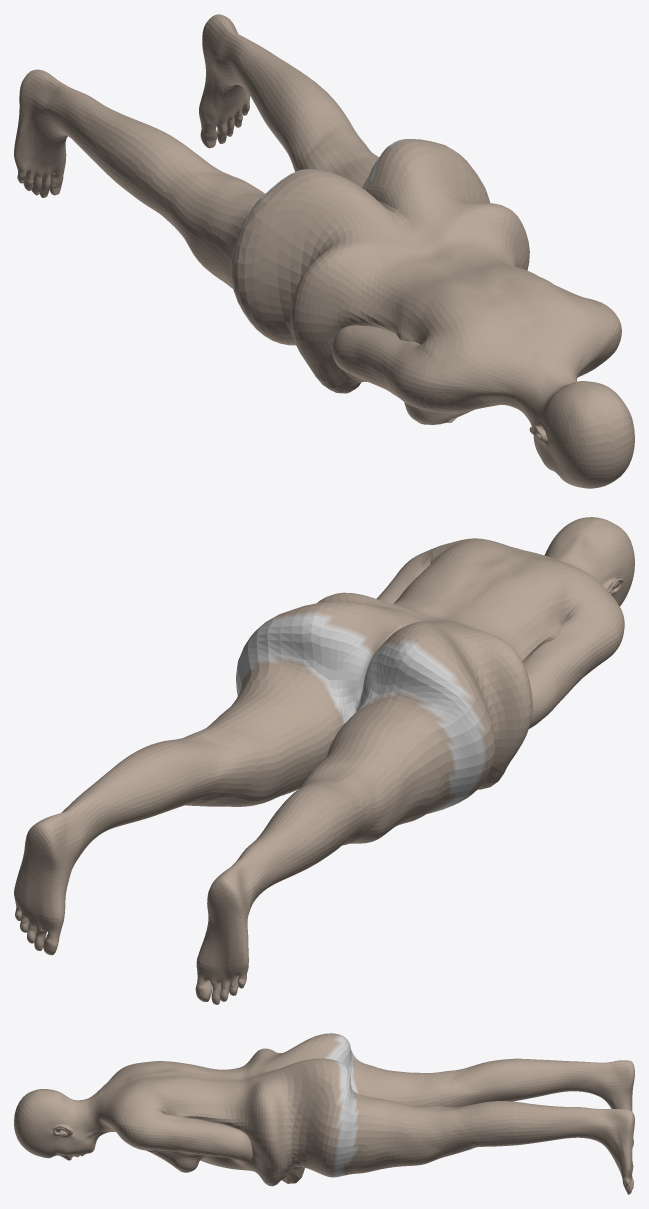
3 renders of one model, top to bottom at view 1: azimuth 30°, elevation 25°; view 2: azimuth 150°, elevation 25°; view 3: azimuth 270°, elevation 25°, orthographic. The views are drawn at different scales.
Parts seen in each view (by area): view 1: geometry_0; view 2: geometry_0; view 3: geometry_0.
Boxes of the visible parts, x1,y1,x2,y2 form: geometry_0: [14, 14, 634, 488]; geometry_0: [14, 517, 634, 1004]; geometry_0: [14, 1033, 634, 1194].
Bounding box in the file's own units: 0.523 × 0.4098 × 1.74.
